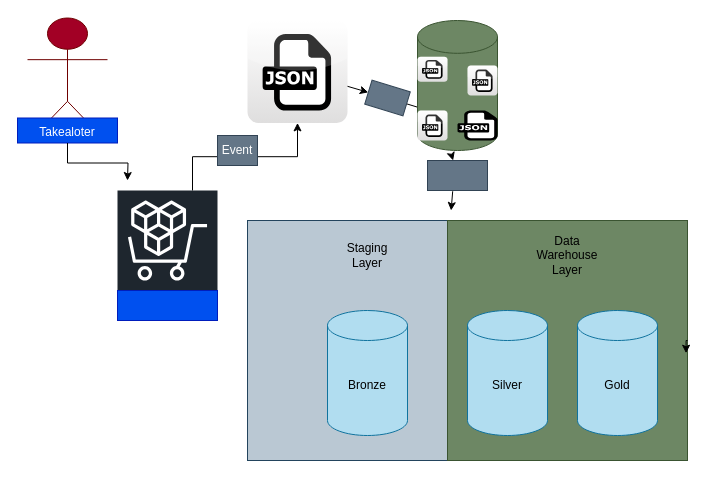
The diagram is 713 pixels wide and 478 high, and some of its shapes have lost their labels. The shapes that lost their labels are listed below. From the top down, each one's box as (x1, y1, x2, y2) in pixels, then its label:
(364, 79, 410, 116): OLATP
(426, 160, 488, 190): ETL
(116, 290, 218, 320): Takealot.com (Website)
